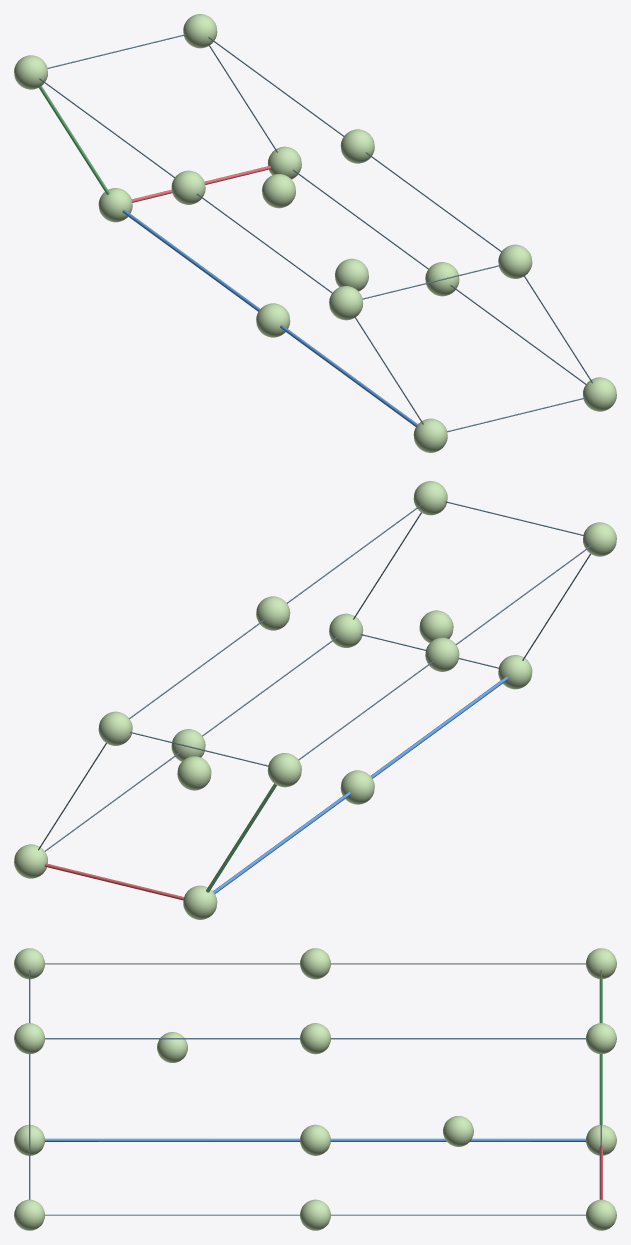
The model's file is nguyen-to-pm.glb.
3 views of the same model, one above another, from view 1: azimuth 30°, elevation 25°; view 2: azimuth 150°, elevation 25°; view 3: azimuth 270°, elevation 25° (orthographic). The views are drawn at different scales.
Parts seen in each view (by area): view 1: Pm1 · Pm · 1 (×12), Ô mạng và các trục a, b, c, Pm2 · Pm · 1 (×2); view 2: Pm1 · Pm · 1 (×12), Ô mạng và các trục a, b, c, Pm2 · Pm · 1 (×2); view 3: Pm1 · Pm · 1 (×12), Ô mạng và các trục a, b, c, Pm2 · Pm · 1 (×2).
Part boxes in pixels (bbox=[...]): Pm1 · Pm · 1 (×12): bbox=[14, 14, 616, 452]; Ô mạng và các trục a, b, c: bbox=[39, 34, 592, 432]; Pm2 · Pm · 1 (×2): bbox=[262, 174, 368, 291]; Pm1 · Pm · 1 (×12): bbox=[14, 481, 616, 919]; Ô mạng và các trục a, b, c: bbox=[38, 501, 591, 900]; Pm2 · Pm · 1 (×2): bbox=[177, 610, 453, 790]; Pm1 · Pm · 1 (×12): bbox=[14, 948, 616, 1230]; Ô mạng và các trục a, b, c: bbox=[29, 963, 602, 1215]; Pm2 · Pm · 1 (×2): bbox=[157, 1032, 473, 1146].
Bounding box in the file's own units: 6.1 × 3.79 × 12.38.
